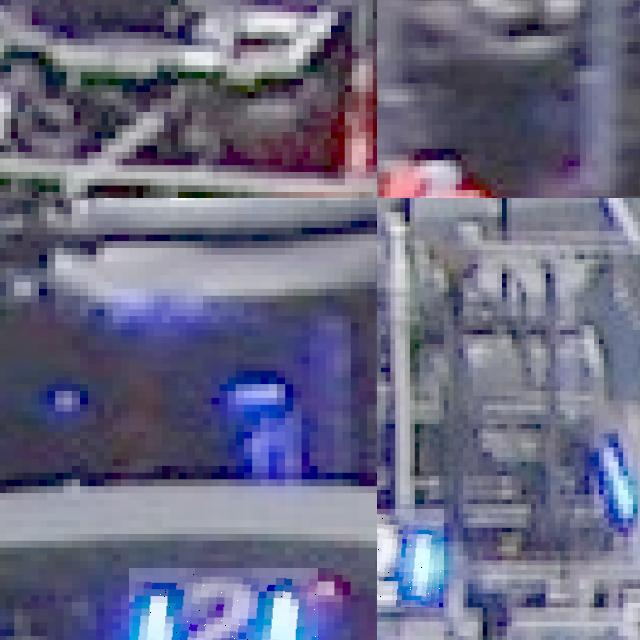B2: (129, 568, 317, 640), (377, 508, 444, 607)
R2: (378, 148, 485, 198)
